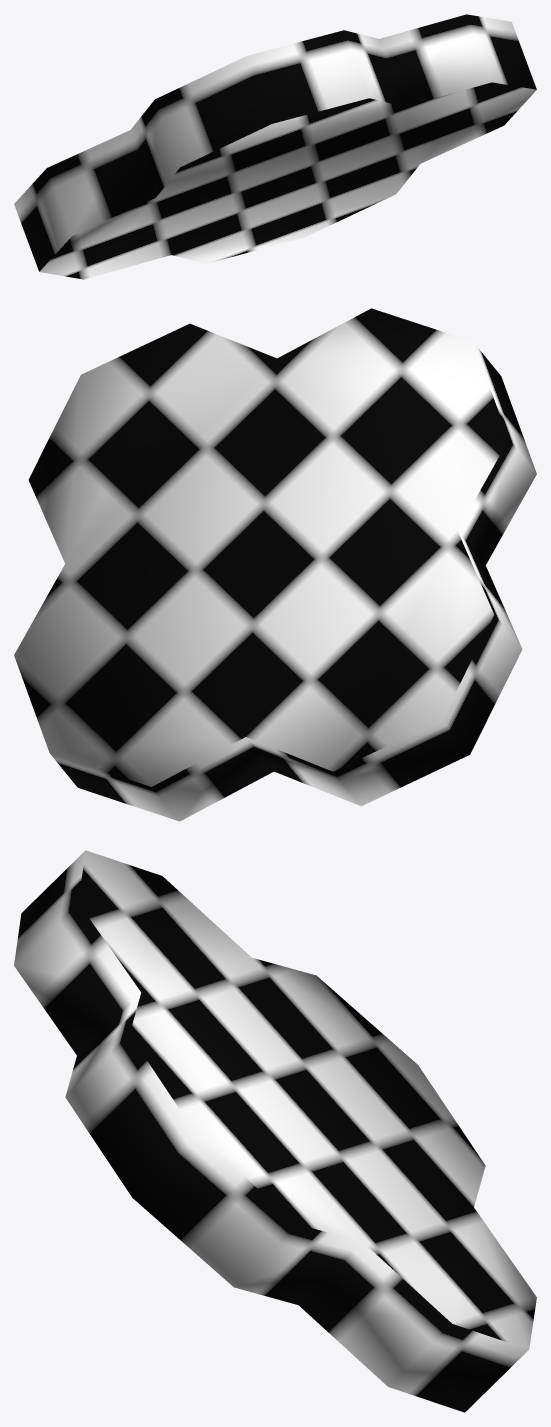
The model's file is initqu50.dae.
The picture shows the model from 3 angles, top to bottom: view 1: azimuth 30°, elevation 25°; view 2: azimuth 150°, elevation 25°; view 3: azimuth 270°, elevation 25°; orthographic projection. The views are drawn at different scales.
Visible parts, largest first — view 1: item; view 2: item; view 3: item.
Part boxes in pixels (x1,y1,x2,y2): item: (14, 14, 536, 279); item: (14, 308, 536, 821); item: (14, 850, 536, 1412).
Size of the model in its own units: 1.42 by 1.19 by 1.12.
1 material, 1 textured.
